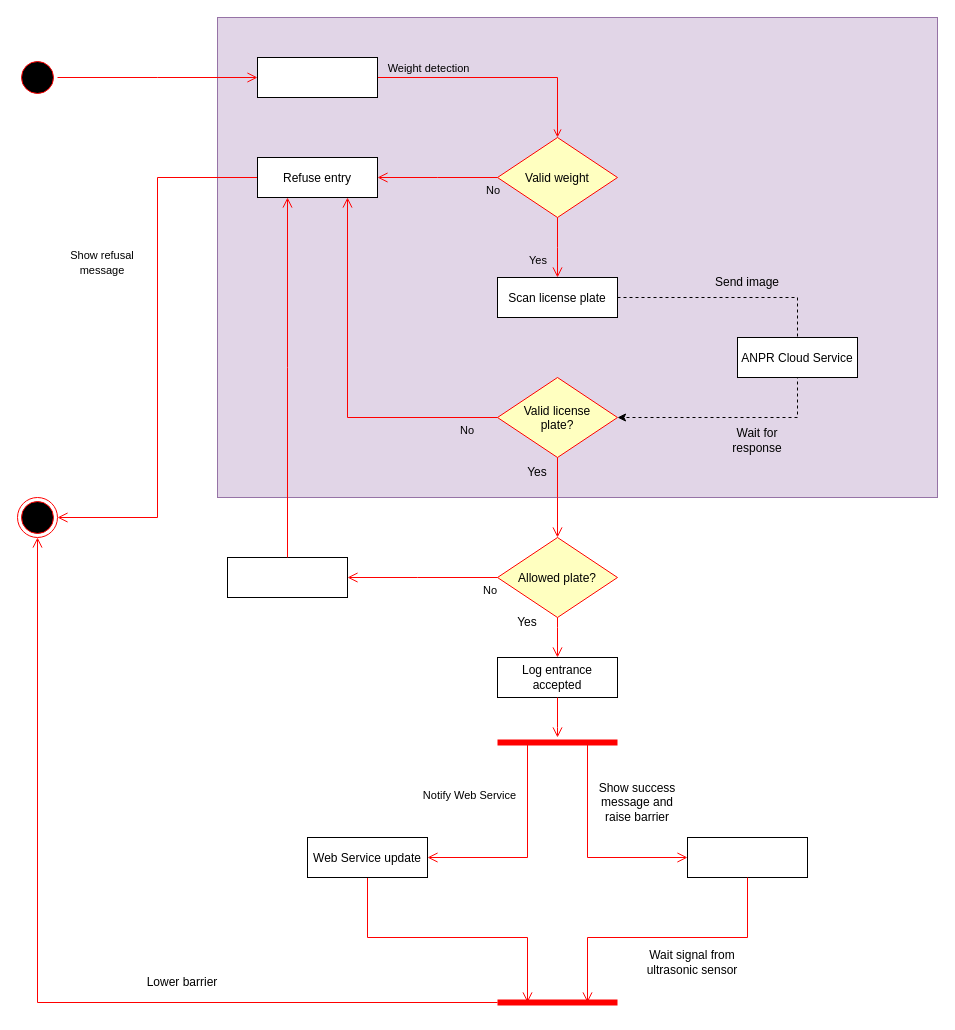
Image size: 955x1030. Some labels were removed from this diagram. Here are the shapes that lost their labels. From the top down, the box of each, then its label:
(256, 56, 378, 98): Vehicle arriving
(216, 16, 938, 498): Vehicle arrival
(226, 556, 348, 598): Log entrance refusal
(686, 836, 808, 878): Vehicle entrance
